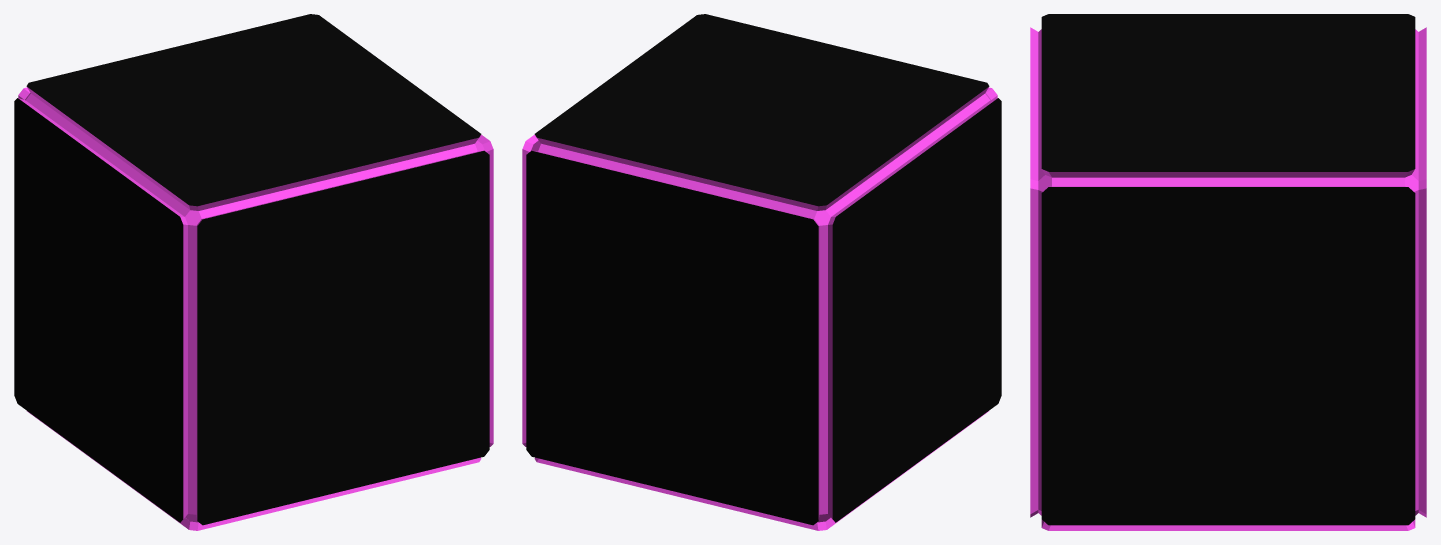
Rendered from Ship_2x2_A1.fbx.
The picture shows the model from 3 angles, left to right: view 1: azimuth 30°, elevation 25°; view 2: azimuth 150°, elevation 25°; view 3: azimuth 270°, elevation 25°; orthographic projection. The views are drawn at different scales.
Parts seen in each view (by area): view 1: Ship_2x2_A1; view 2: Ship_2x2_A1; view 3: Ship_2x2_A1.
Part boxes in pixels (x1=…): Ship_2x2_A1: x1=14, y1=14, x2=493, y2=530; Ship_2x2_A1: x1=522, y1=14, x2=1001, y2=530; Ship_2x2_A1: x1=1030, y1=14, x2=1426, y2=530.
Bounding box in the file's own units: 153 × 153 × 153.
